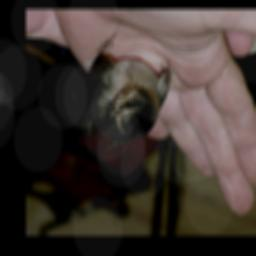Swallow: (60, 29, 173, 153)
